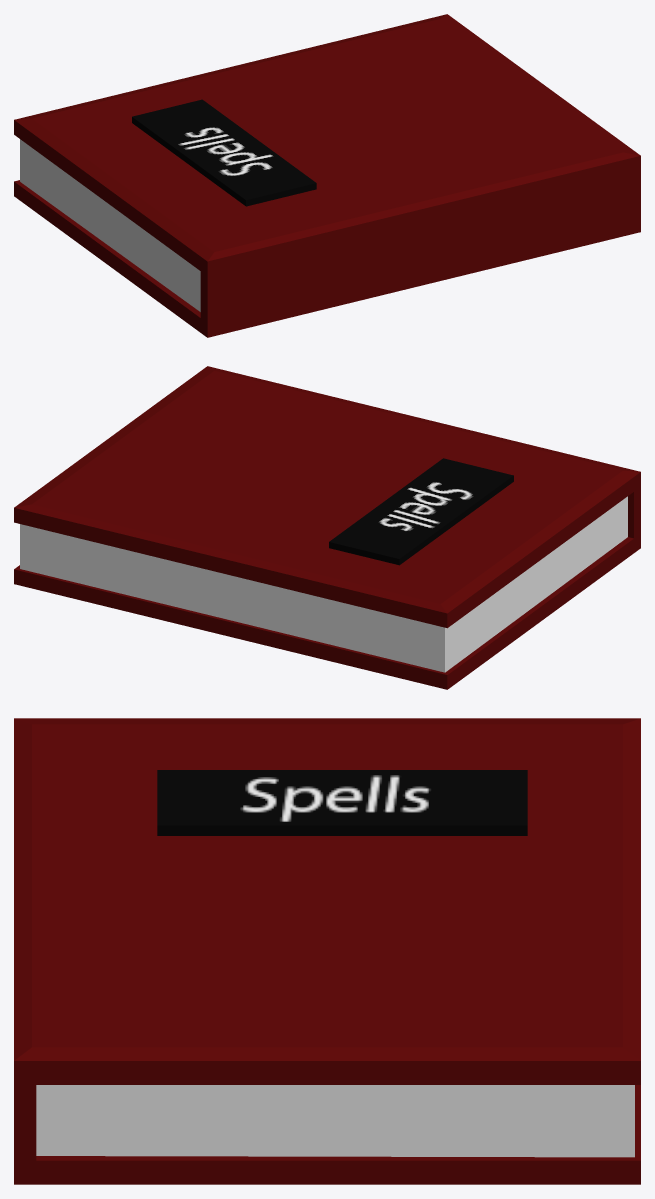
File: Book.fbx
3 views of the same model, one above another, from view 1: azimuth 30°, elevation 25°; view 2: azimuth 150°, elevation 25°; view 3: azimuth 270°, elevation 25° (orthographic). The views are drawn at different scales.
Parts seen in each view (by area): view 1: Cube; view 2: Cube; view 3: Cube.
Boxes of the visible parts, box(x1,y1,x2,y2) form: Cube: box(14, 14, 640, 337); Cube: box(14, 366, 640, 689); Cube: box(14, 718, 640, 1184).
Bounding box in the file's own units: 259 × 49.73 × 200.
Materials: 1 (1 with a texture image).
